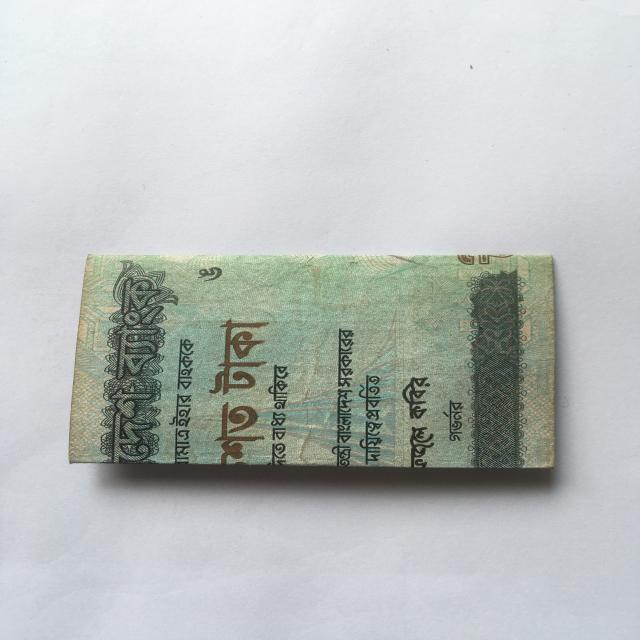Taka: (73, 244, 564, 476)
